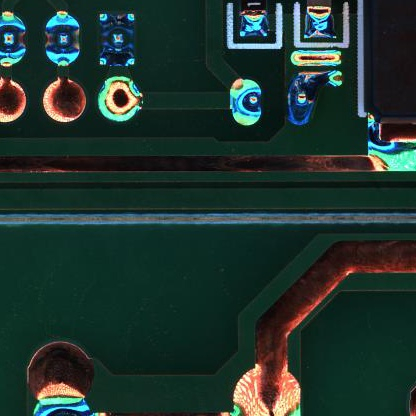spot: (98, 9, 135, 70), (43, 11, 82, 67), (226, 76, 261, 129), (1, 12, 29, 69)
